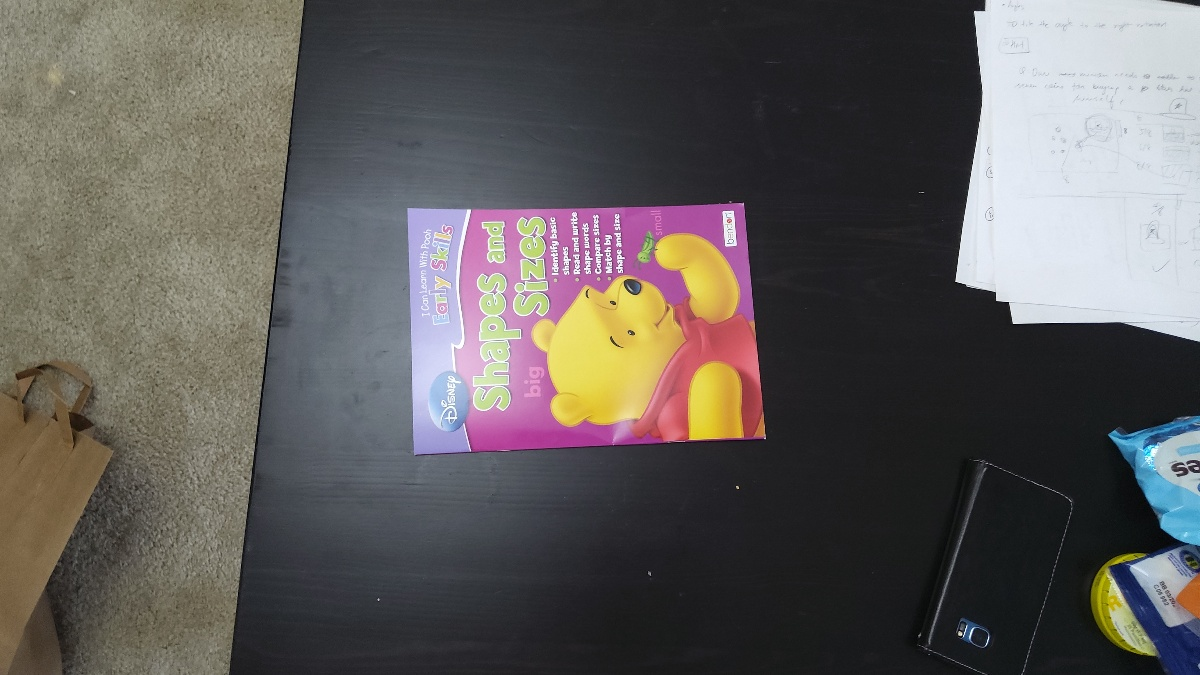book: (412, 211, 750, 438)
